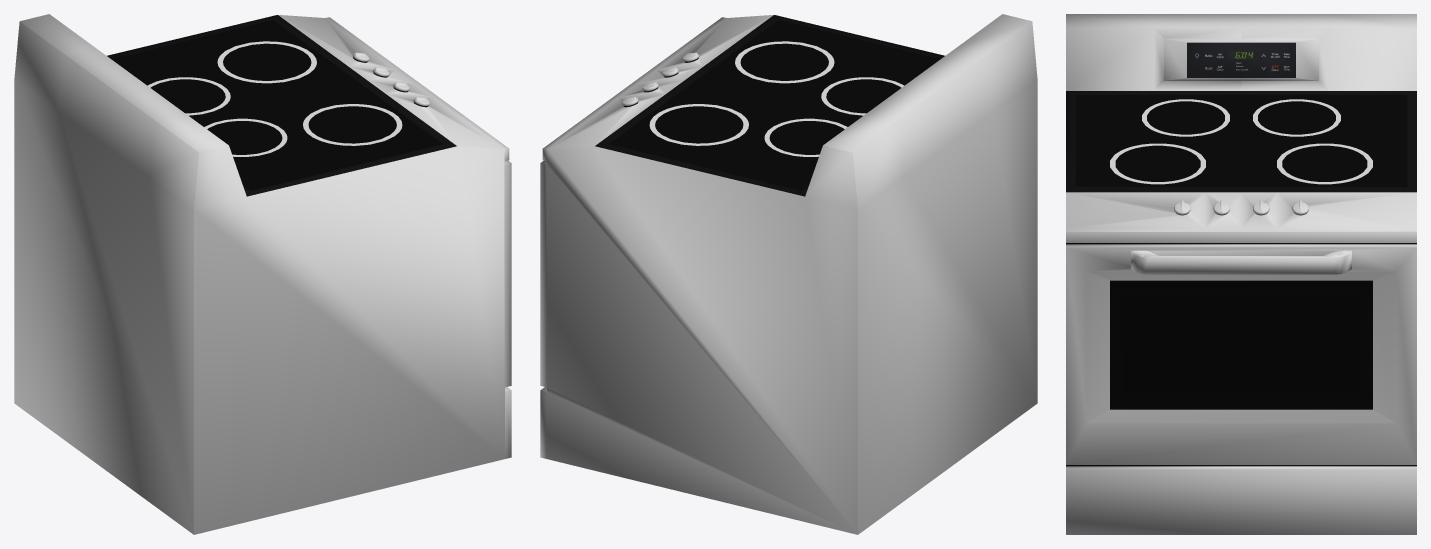
The model's file is stove.fbx.
The picture shows the model from 3 angles, left to right: view 1: azimuth 30°, elevation 25°; view 2: azimuth 150°, elevation 25°; view 3: azimuth 270°, elevation 25°; orthographic projection. The views are drawn at different scales.
Visible parts, largest first — view 1: Cube; view 2: Cube; view 3: Cube.
Boxes of the visible parts, box(x1,y1,x2,y2) form: Cube: box(14, 14, 511, 534); Cube: box(540, 14, 1037, 534); Cube: box(1066, 14, 1416, 534).
Bounding box in the file's own units: 213 × 234 × 200.
